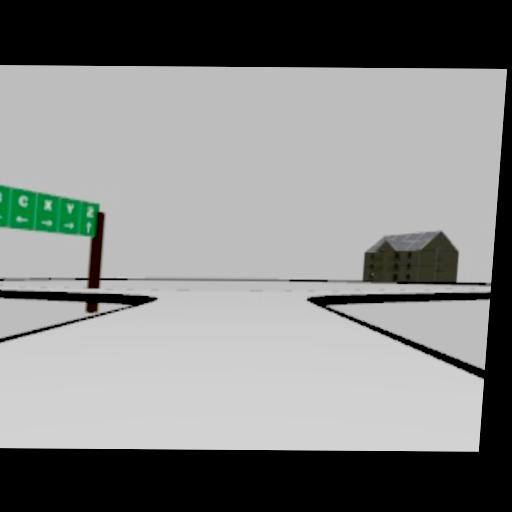B: (0, 189, 3, 203)
C: (17, 194, 30, 206)
Left: (14, 214, 30, 222), (0, 211, 2, 220)
Right: (39, 218, 54, 227), (63, 221, 76, 229)
Straight: (84, 220, 92, 232)
X: (43, 198, 53, 210)
Y: (66, 201, 76, 214)
Z: (85, 204, 96, 217)
